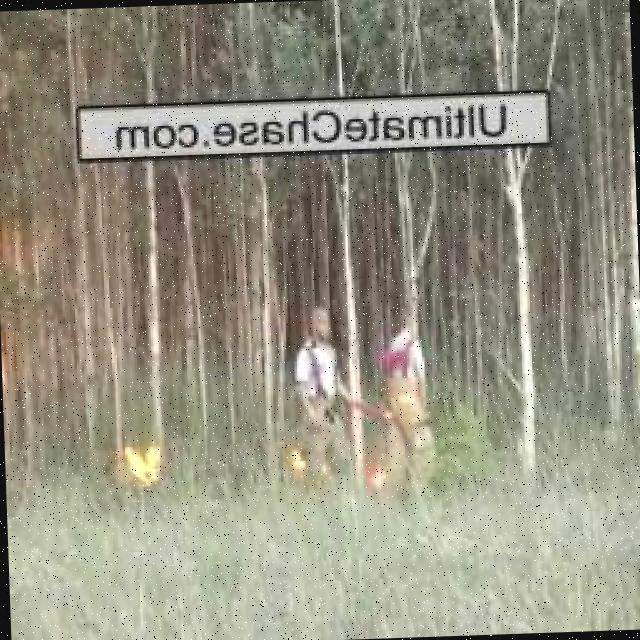Fire: (115, 438, 165, 491), (281, 446, 335, 485), (365, 469, 391, 491)
